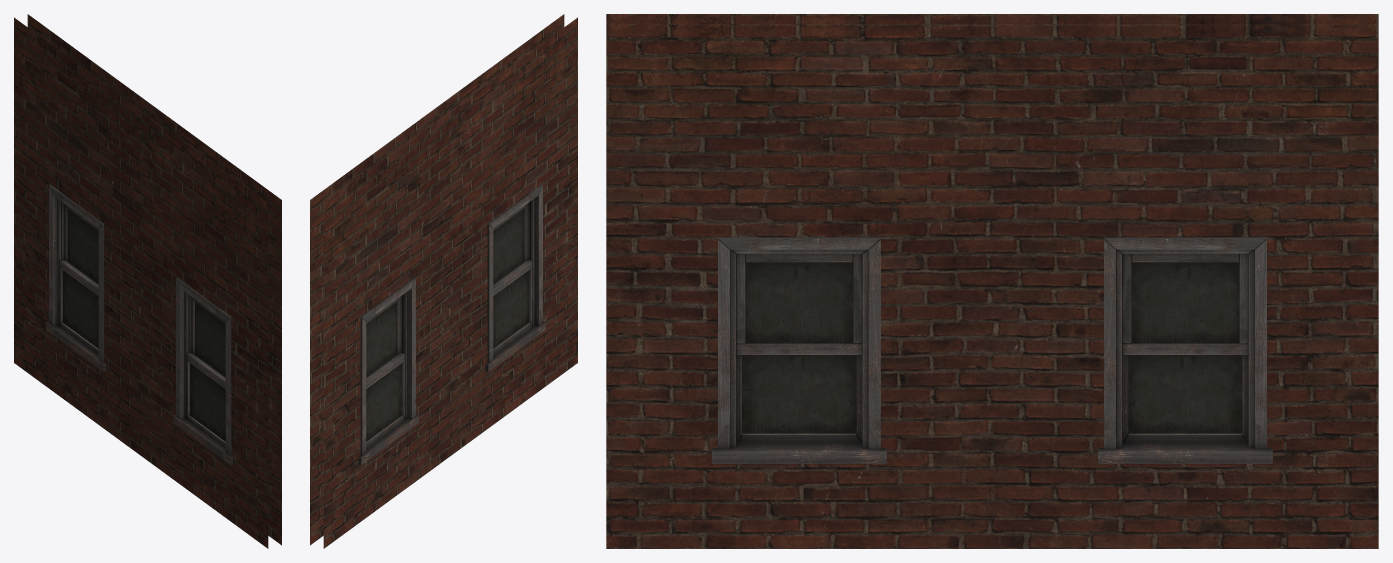
The model's file is walltile_windowsmall_5m.fbx.
3 renders of one model, left to right at view 1: azimuth 30°, elevation 25°; view 2: azimuth 150°, elevation 25°; view 3: azimuth 270°, elevation 25°, orthographic. The views are drawn at different scales.
Parts seen in each view (by area): view 1: walltile_windowsmall_5m; view 2: walltile_windowsmall_5m; view 3: walltile_windowsmall_5m.
Part boxes in pixels (box(x1,y1,x2,y2)): walltile_windowsmall_5m: box(14, 14, 281, 548); walltile_windowsmall_5m: box(310, 14, 577, 548); walltile_windowsmall_5m: box(606, 14, 1378, 548).
Bounding box in the file's own units: 0.2591 × 3.75 × 5.
